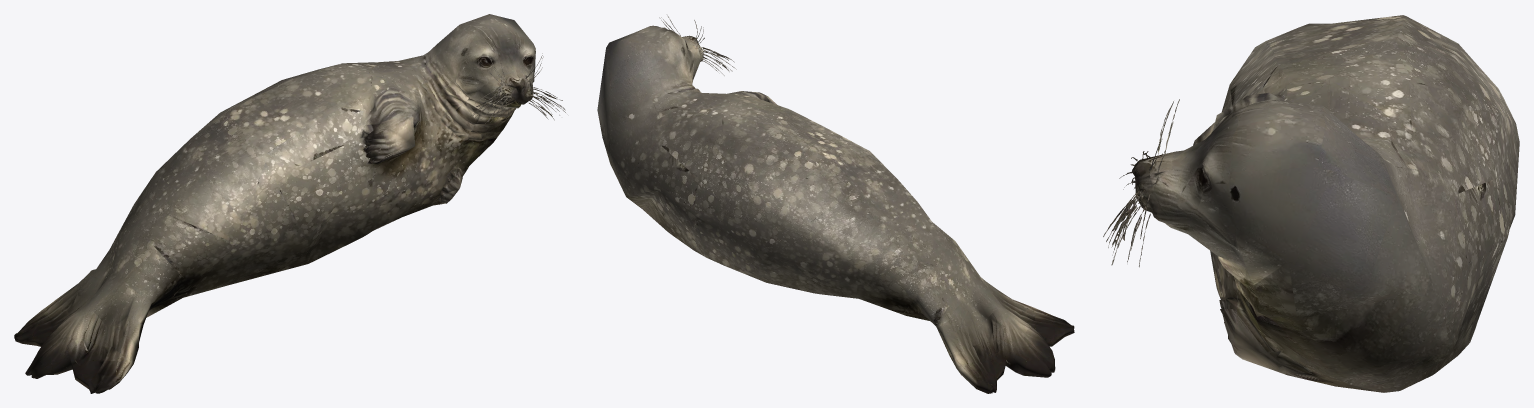
File: seal.glb
3 views of the same model, side by side, from view 1: azimuth 30°, elevation 25°; view 2: azimuth 150°, elevation 25°; view 3: azimuth 270°, elevation 25° (orthographic). The views are drawn at different scales.
Parts seen in each view (by area): view 1: Object_5; view 2: Object_5; view 3: Object_5.
Boxes of the visible parts, box(x1,y1,x2,y2) form: Object_5: box(14, 14, 565, 393); Object_5: box(597, 15, 1074, 393); Object_5: box(1103, 15, 1519, 392).
Bounding box in the file's own units: 1.88 × 0.9359 × 0.7542.
1 material, 1 textured.
